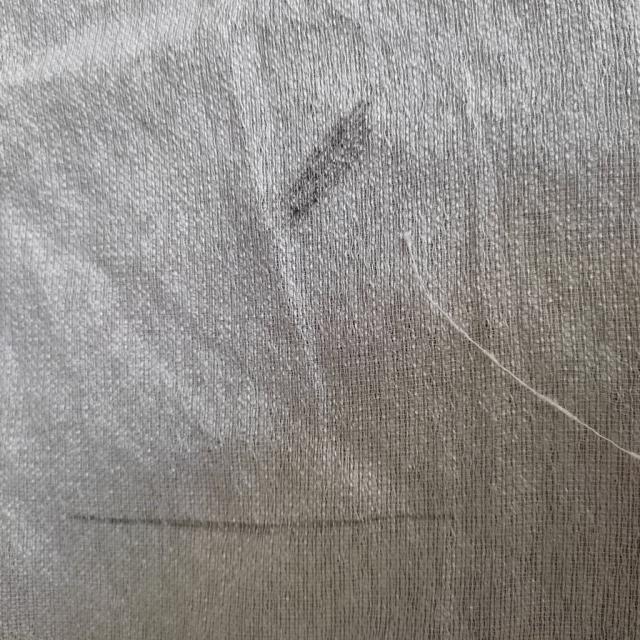Stain: (282, 97, 373, 224), (66, 508, 457, 532)
Thread: (398, 226, 638, 462)
